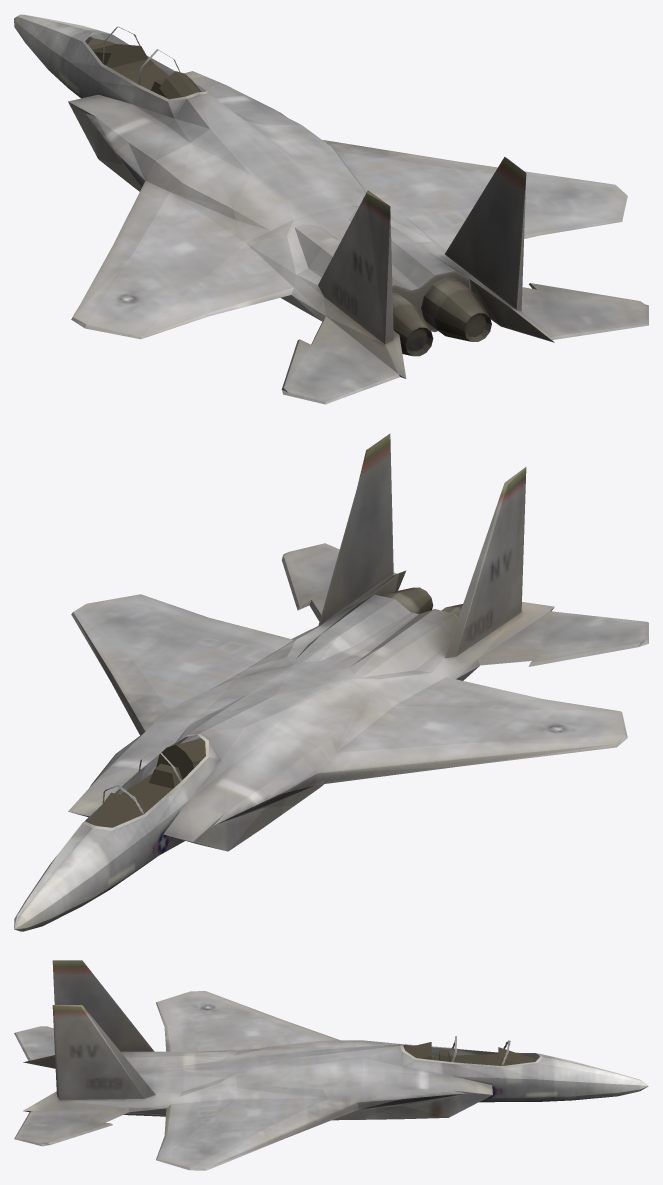
3 views of the same model, one above another, from view 1: azimuth 30°, elevation 25°; view 2: azimuth 150°, elevation 25°; view 3: azimuth 270°, elevation 25° (orthographic). The views are drawn at different scales.
Parts seen in each view (by area): view 1: hull; view 2: hull; view 3: hull.
Boxes of the visible parts, left/top/right/bottom form: hull: left=14, top=14, right=648, bottom=404; hull: left=14, top=433, right=648, bottom=931; hull: left=14, top=960, right=648, bottom=1170.
Bounding box in the file's own units: 12.94 × 4.15 × 19.44.
Materials: 2 (2 with a texture image).
